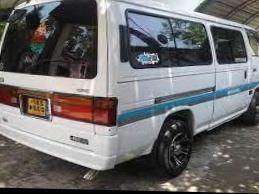van: (0, 0, 259, 183)
